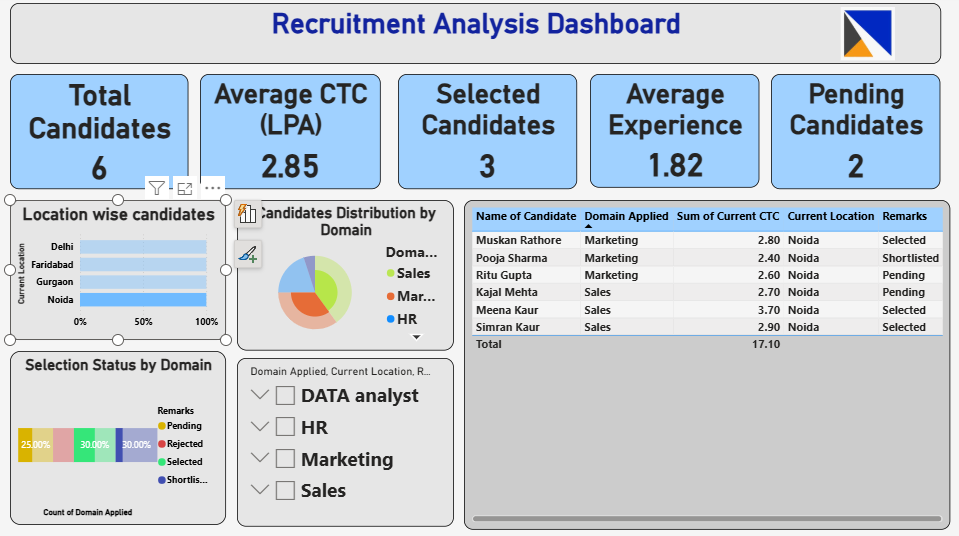

This screenshot's page, from the dashboard's own definition file:
{"tool":"powerbi","page":{"name":"Page 1","canvas":[1280,720],"ordinal":0},"visuals":[{"type":"card","title":"Total Candidates","fields":{"Values":["CountNonNull(Table3.Name of Candidate)"]},"box":[17.1,105.6,236.9,152.7],"z":0},{"type":"card","title":"Average CTC (LPA)","fields":{"Values":["Avg(Table3.Current CTC)"]},"box":[269.7,105.6,239.7,152.7],"z":1000},{"type":"card","title":"Selected Candidates","fields":{"Values":["CountNonNull(Table3.Remarks)"]},"box":[532.3,105.6,238.3,152.7],"z":2000},{"type":"card","title":"Average Experience","fields":{"Values":["Avg(Table3.Total Experience (Years))"]},"box":[787.7,105.6,225.5,151.3],"z":3000},{"type":"pieChart","title":"Candidates Distribution by Domain","fields":{"Category":["Table3.Domain Applied"],"Y":["CountNonNull(Table3.Name of Candidate)"]},"box":[318.2,272.6,288.2,199.8],"z":4000},{"type":"hundredPercentStackedBarChart","title":"Location wise candidates","fields":{"Category":["Table3.Current Location"],"Y":["CountNonNull(Table3.Name of Candidate)"]},"box":[17.1,272.6,286.8,185.5],"z":5000},{"type":"hundredPercentStackedBarChart","title":"Selection Status by Domain","fields":{"Series":["Table3.Remarks"],"Y":["CountNonNull(Table3.Domain Applied)"]},"box":[17.1,472.3,286.8,231.2],"z":6000},{"type":"tableEx","fields":{"Values":["Table3.Name of Candidate","Table3.Domain Applied","Sum(Table3.Current CTC)","Table3.Current Location","Table3.Remarks"]},"box":[620.7,272.6,646.4,438.1],"z":7000},{"type":"slicer","fields":{"Values":["Table3.Domain Applied","Table3.Current Location","Table3.Remarks"]},"box":[318.2,482.3,288.2,224],"z":8000},{"type":"textbox","title":"Recruitment Analysis Dashboard","box":[17.1,10,1237.2,81.3],"z":9000},{"type":"card","title":"Pending Candidates","fields":{"Values":["CountNonNull(Table3.Remarks)"]},"box":[1028.9,105.6,225.5,152.7],"z":10000},{"type":"image","box":[1047.4,15.7,219.8,71.3],"z":11000}]}

Visuals, with their boxes in screenshot pixels (x1, y1, x2, y2), scaled from the page's 1280x720 canvas onto the 959x536 screenshot:
"Total Candidates" card: l=13, t=79, r=190, b=192
"Average CTC (LPA)" card: l=202, t=79, r=382, b=192
"Selected Candidates" card: l=399, t=79, r=577, b=192
"Average Experience" card: l=590, t=79, r=759, b=191
"Candidates Distribution by Domain" pieChart: l=238, t=203, r=454, b=352
"Location wise candidates" hundredPercentStackedBarChart: l=13, t=203, r=228, b=341
"Selection Status by Domain" hundredPercentStackedBarChart: l=13, t=352, r=228, b=524
tableEx - Table3.Name of Candidate x Table3.Domain Applied: l=465, t=203, r=949, b=529
slicer - Table3.Domain Applied x Table3.Current Location: l=238, t=359, r=454, b=526
"Recruitment Analysis Dashboard" textbox: l=13, t=7, r=940, b=68
"Pending Candidates" card: l=771, t=79, r=940, b=192
image: l=785, t=12, r=949, b=65
